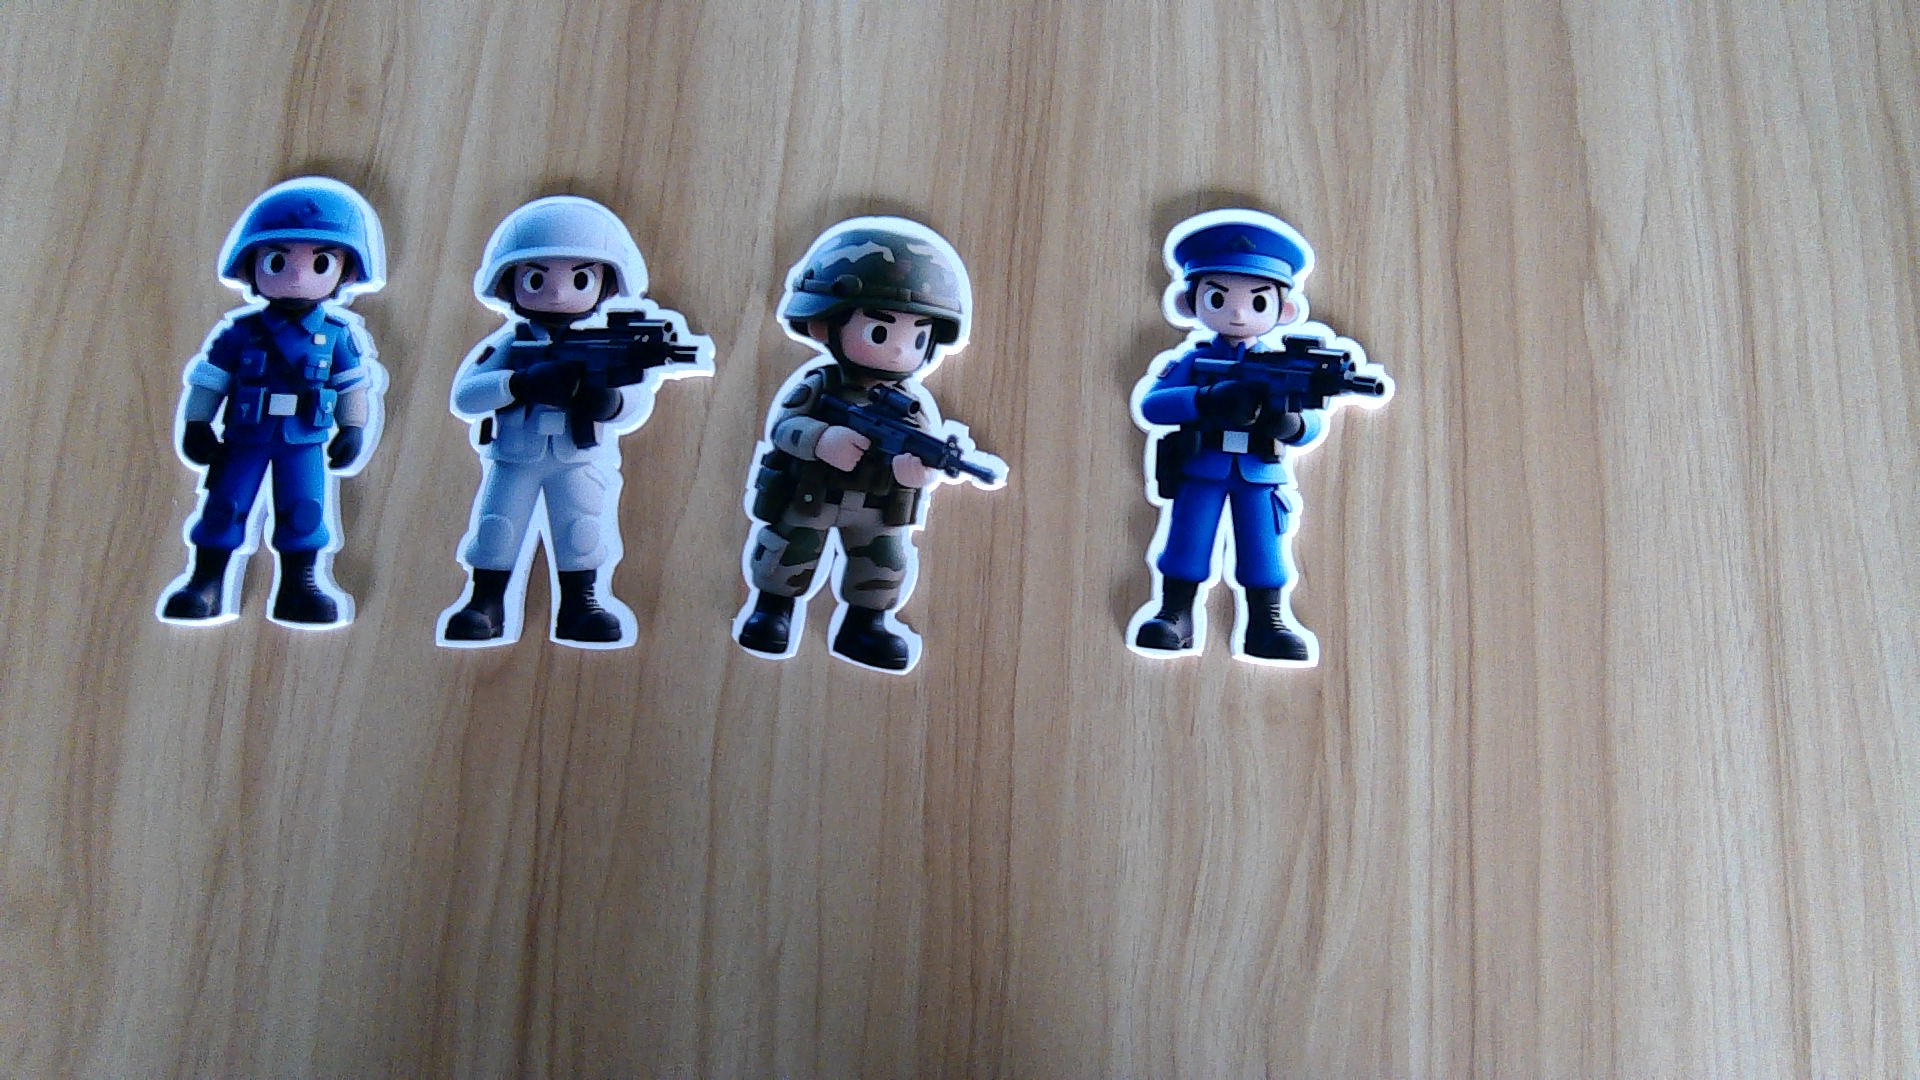人质: (429, 324, 713, 645)
友军: (731, 381, 1007, 675)
敌人2: (1130, 327, 1389, 673), (149, 309, 396, 626)
